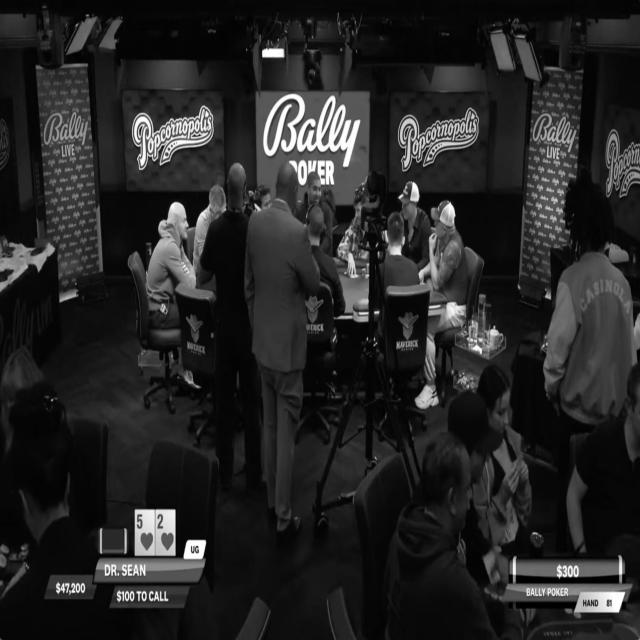2H: (156, 510, 176, 557)
5H: (135, 510, 155, 556)
